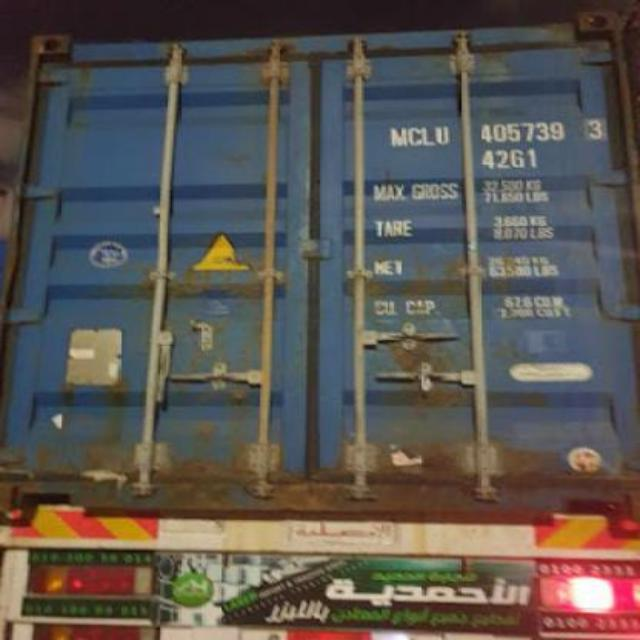0: (492, 119, 506, 145)
3: (584, 118, 610, 144), (534, 120, 552, 144)
4: (474, 122, 494, 144)
5: (508, 117, 522, 141)
7: (518, 116, 536, 146)
9: (550, 116, 568, 146)
C: (404, 122, 424, 148)
L: (422, 124, 436, 148)
M: (390, 124, 408, 148)
U: (438, 120, 452, 146)
